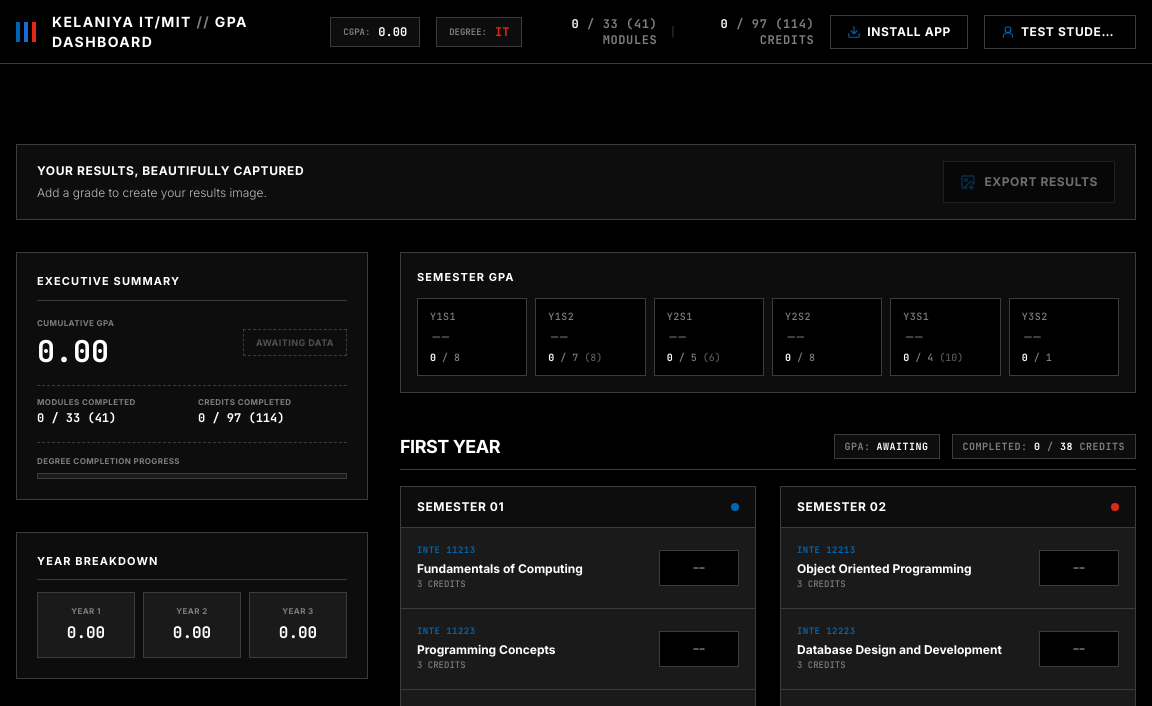
it: App — the remaining dashboard controls › backs out of the reset confirmation without wiping anything
Click the button titled "Profiles" at (1060, 32), box [984,14,1136,48]
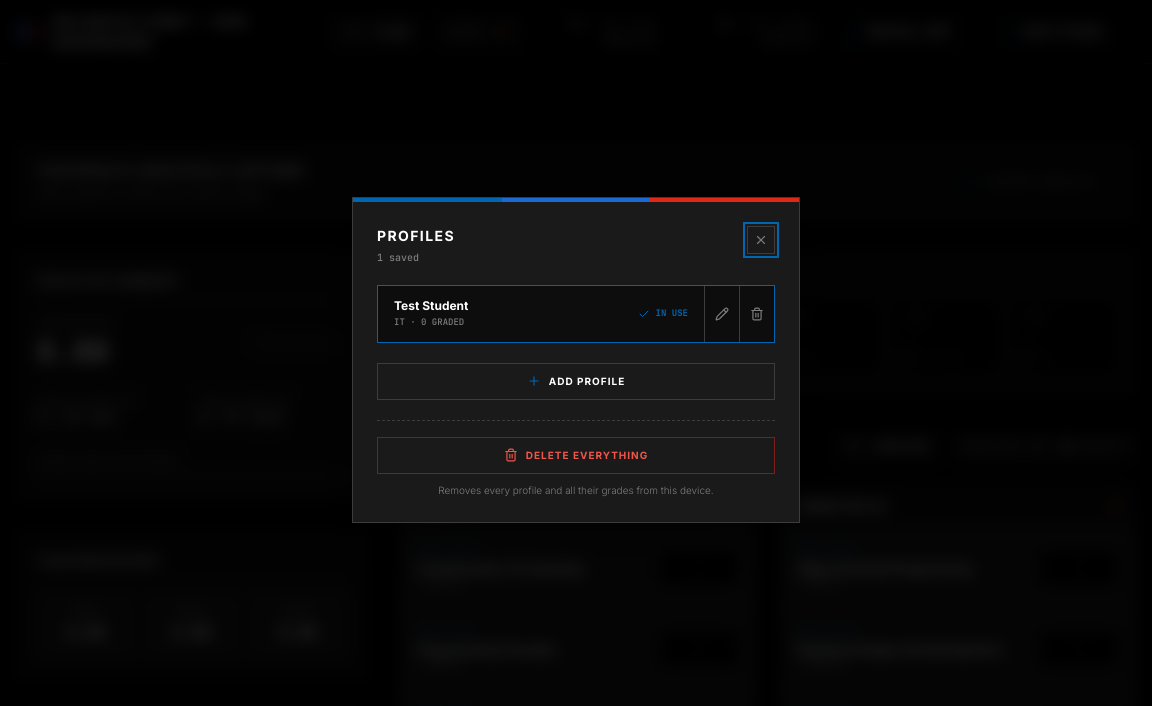
Click the button "Delete everything" at (576, 455), box [377,437,775,474]
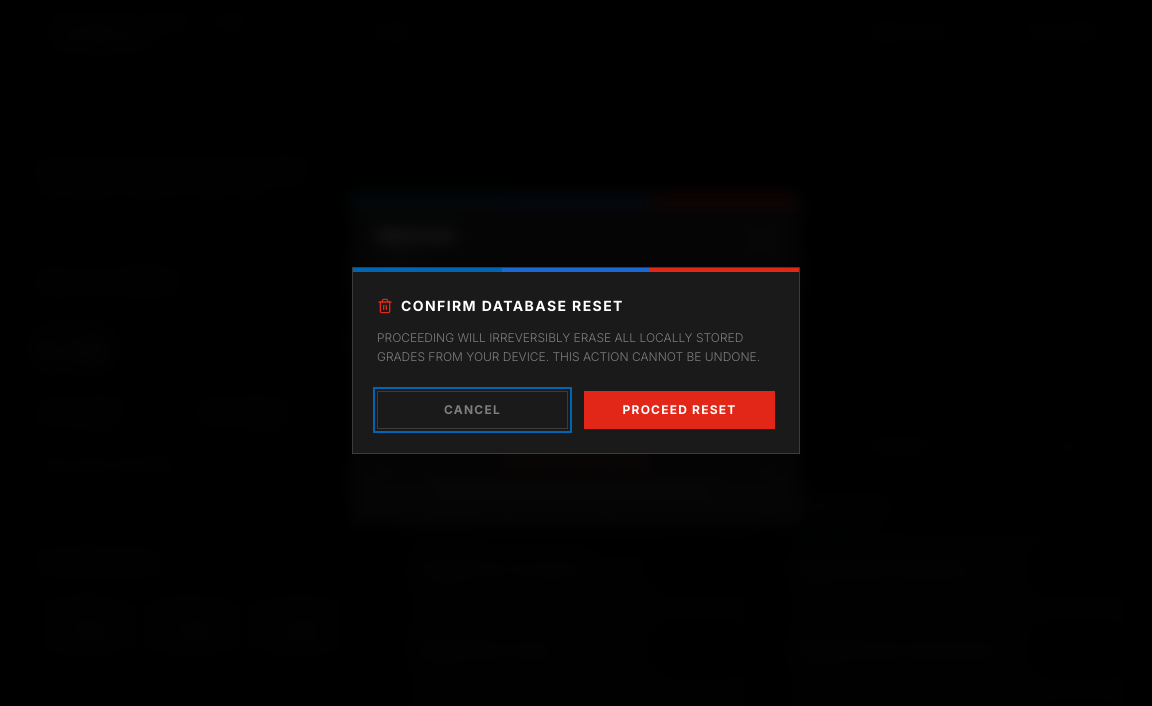
Click the button "CANCEL" at (472, 410), box [377,390,568,428]
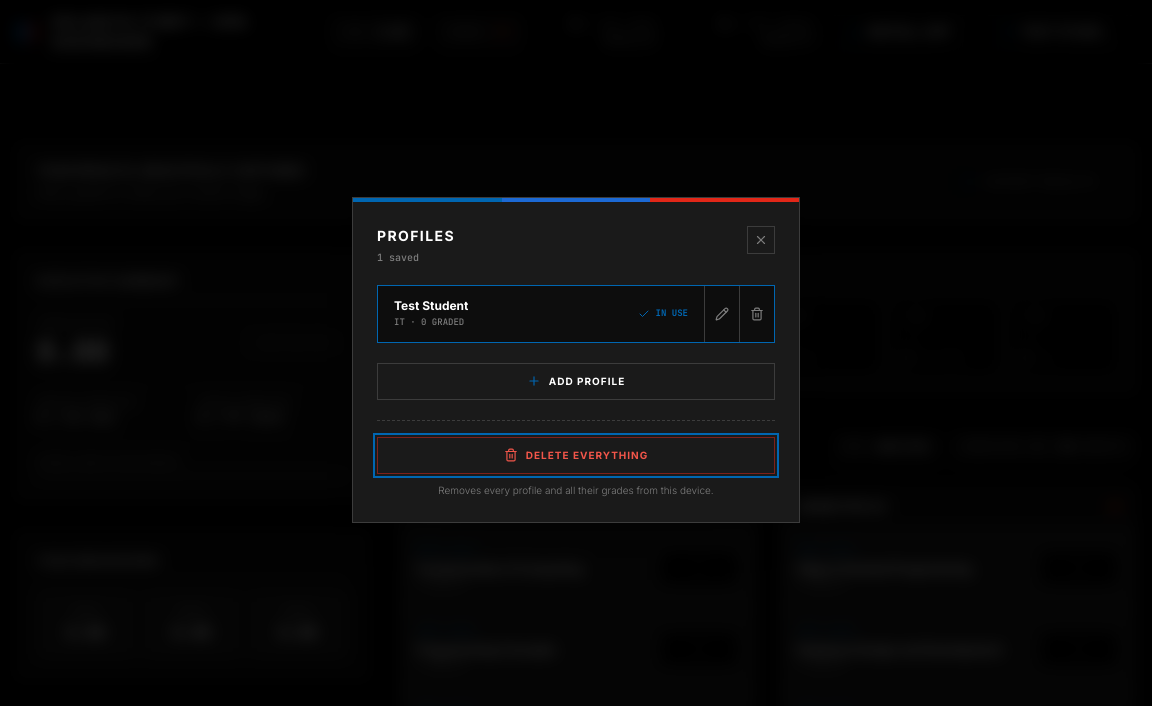
Expected: the heading "CONFIRM DATABASE RESET" is gone
